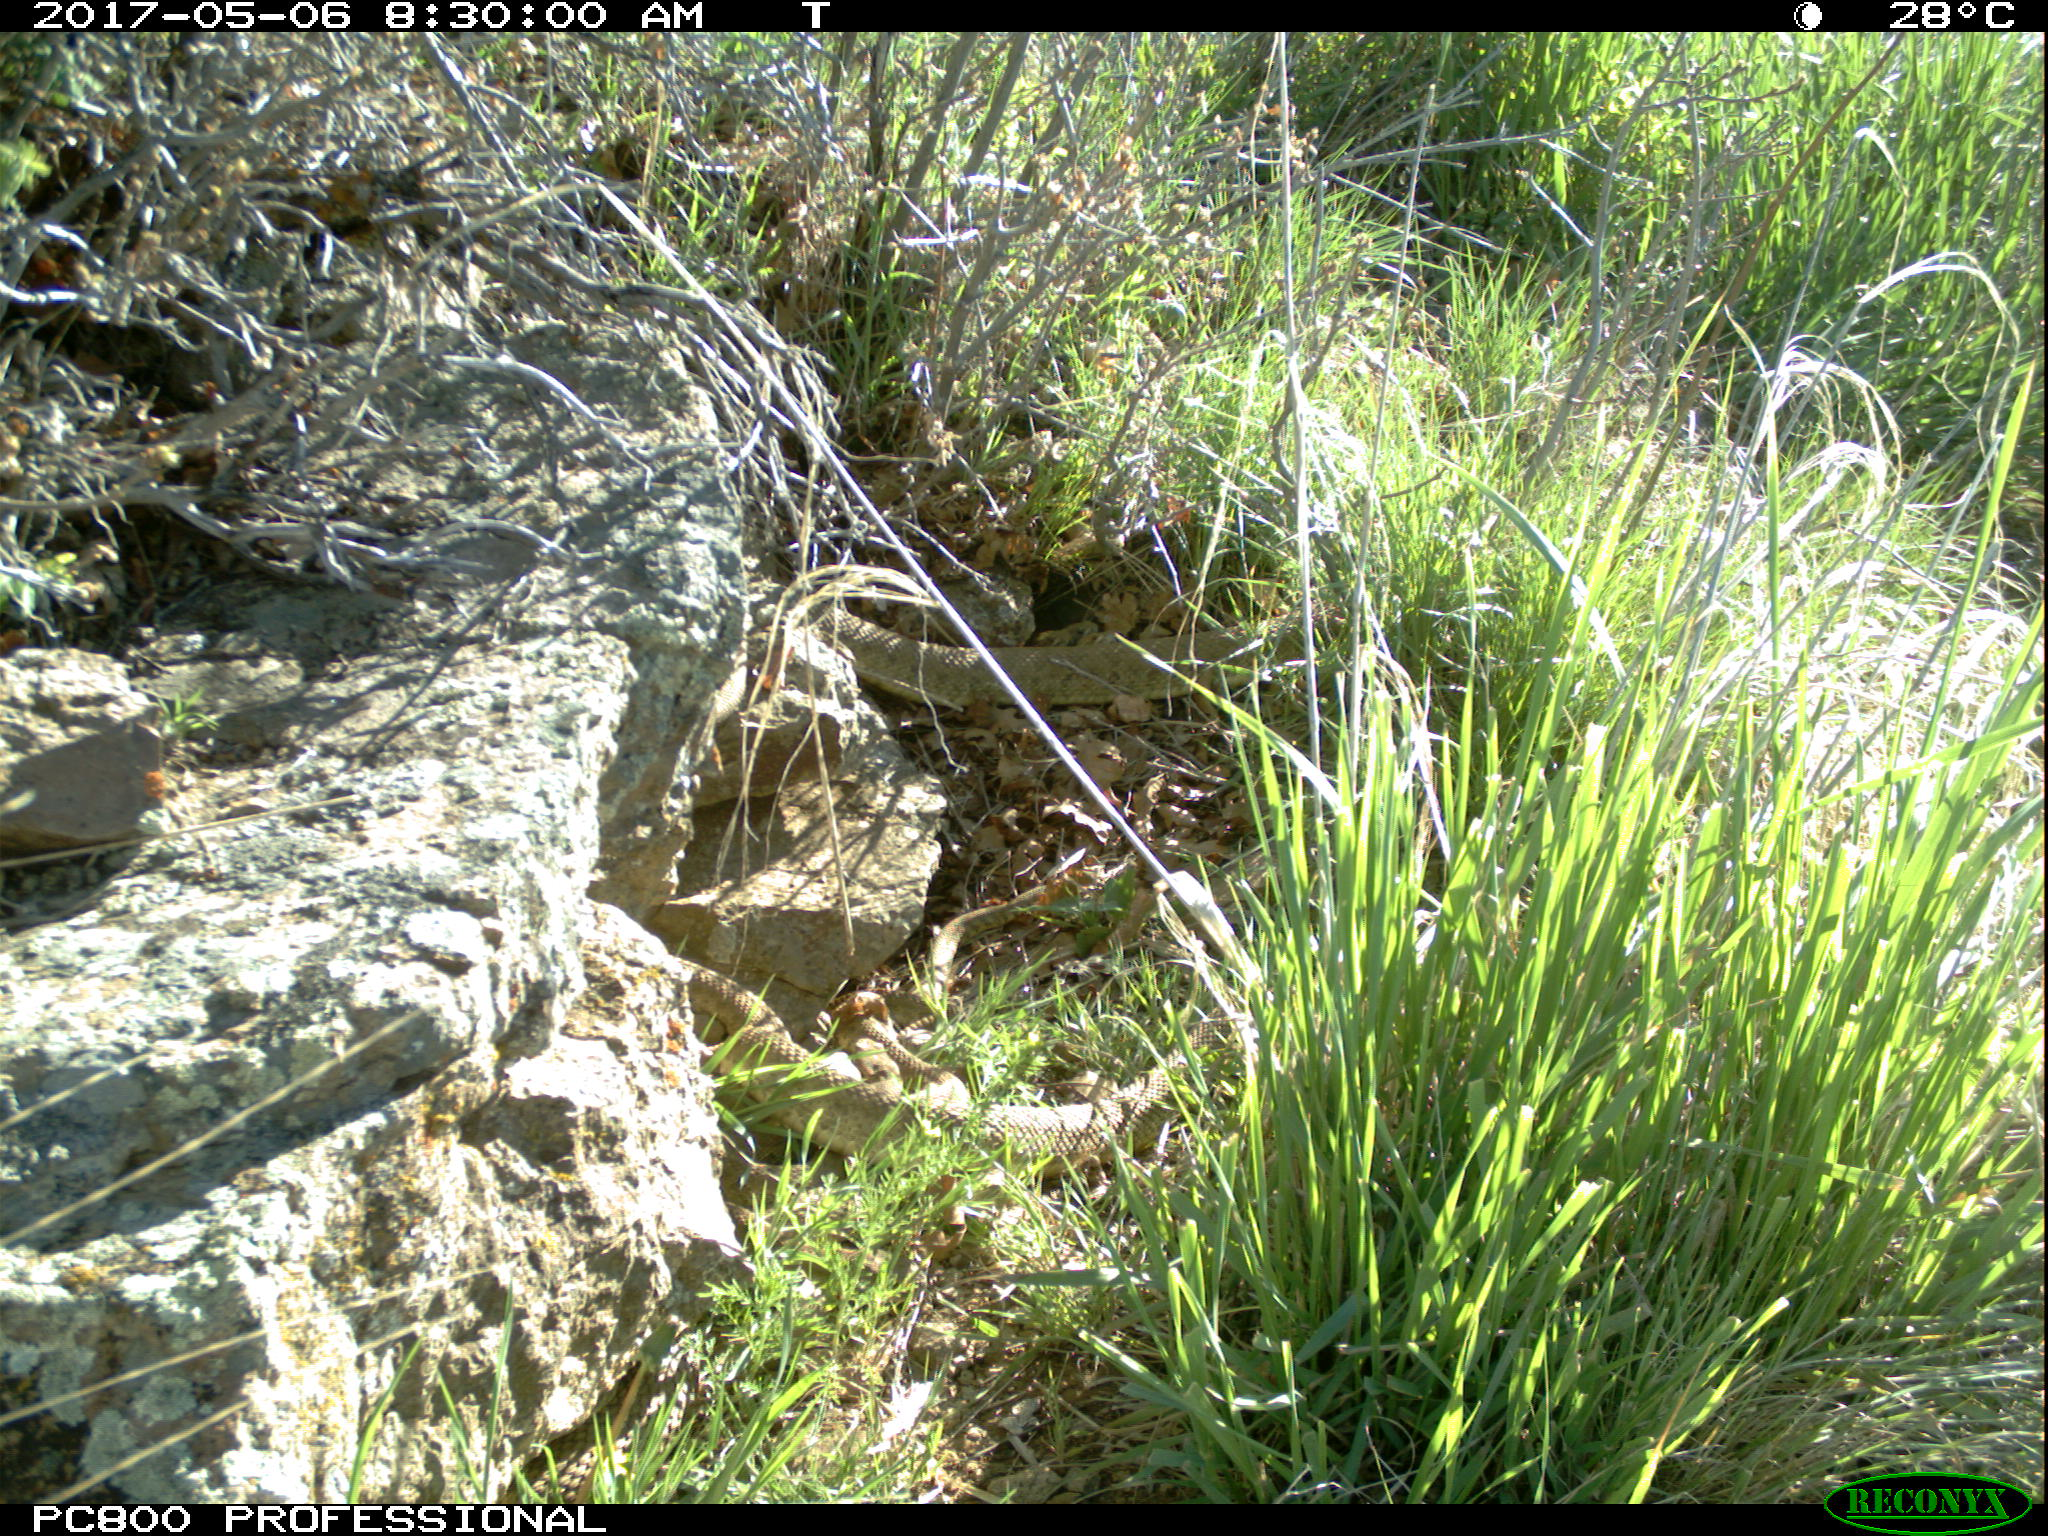snake: (656, 958, 1230, 1168), (821, 597, 1334, 708), (518, 1399, 714, 1499), (914, 891, 1059, 958)
